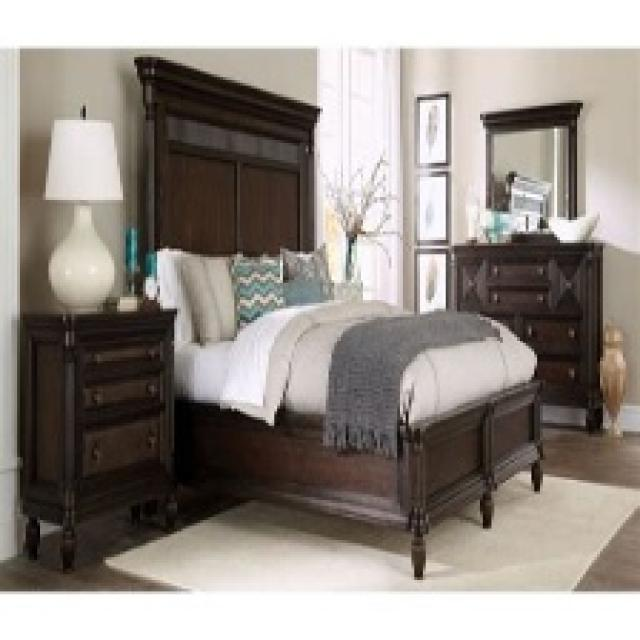Bed: (131, 54, 543, 577)
